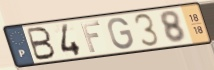3: (133, 12, 161, 48)
4: (59, 22, 82, 58)
8: (159, 9, 188, 45)
B: (25, 26, 57, 62)
F: (79, 19, 102, 54)
G: (107, 17, 135, 51)
